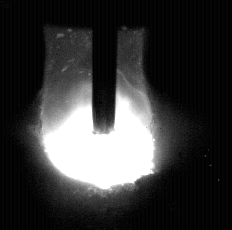arame: (93, 0, 117, 135)
poca: (42, 0, 154, 230)
